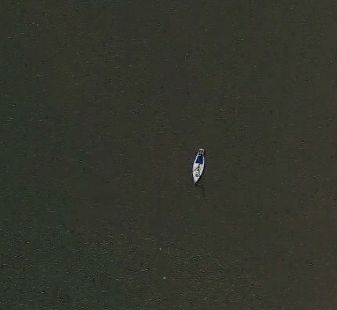boat: (191, 149, 207, 185)
